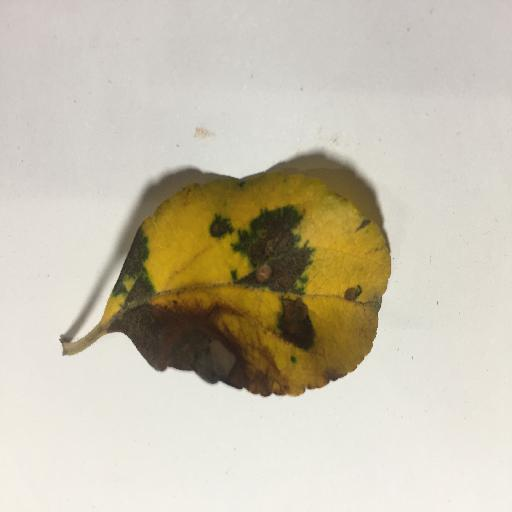Brown_Spot: (112, 305, 273, 399), (243, 218, 296, 290), (279, 297, 317, 347), (209, 220, 232, 237), (343, 280, 359, 298)
